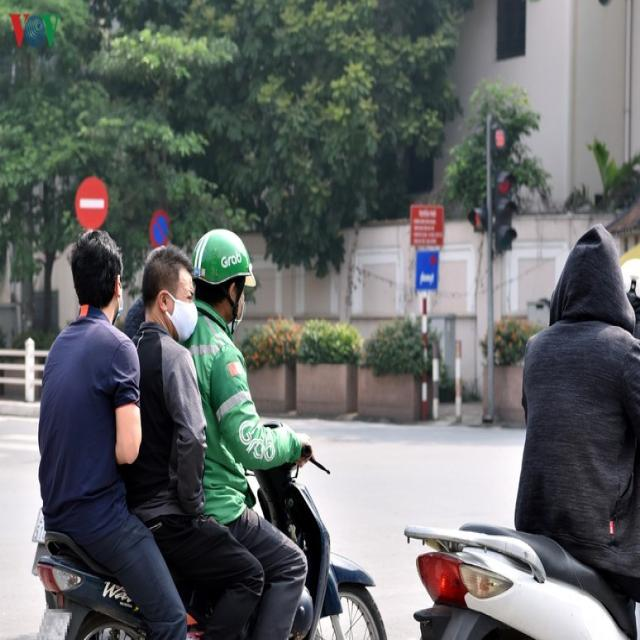no_helmet: (62, 220, 132, 331), (137, 235, 204, 342)
